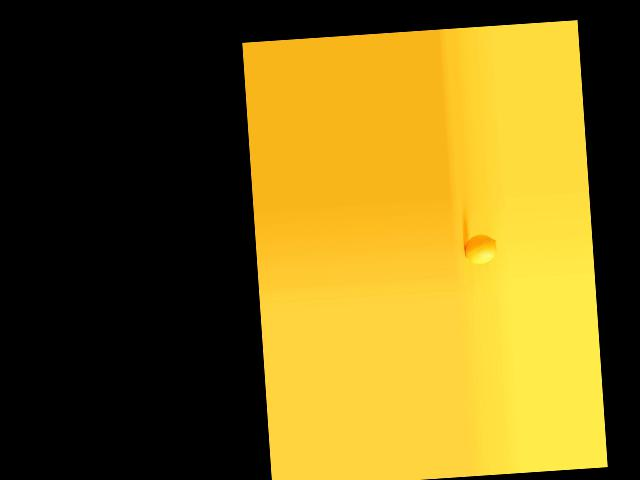lemon: (462, 230, 501, 272)
